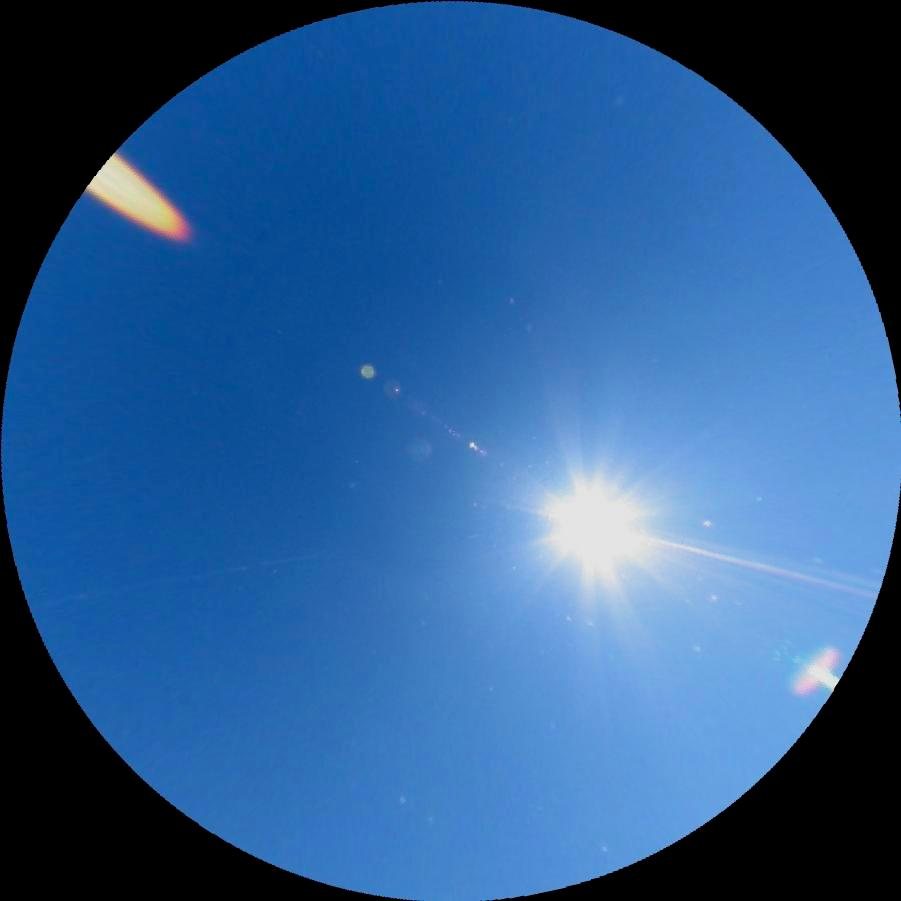parasite: (649, 530, 878, 600)
sun: (527, 458, 659, 592)
